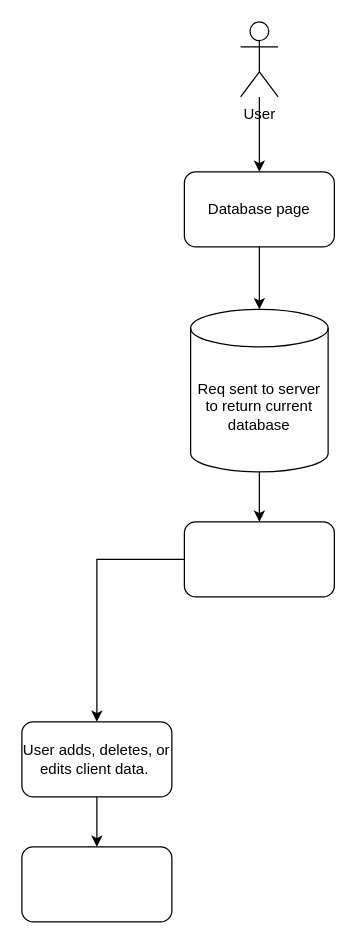
Image size: 356x944. Some labels were removed from this diagram. Each missing label, with the box of its shape:
Database displayed: (183, 521, 334, 597)
Updates sent to server: (21, 846, 172, 922)
